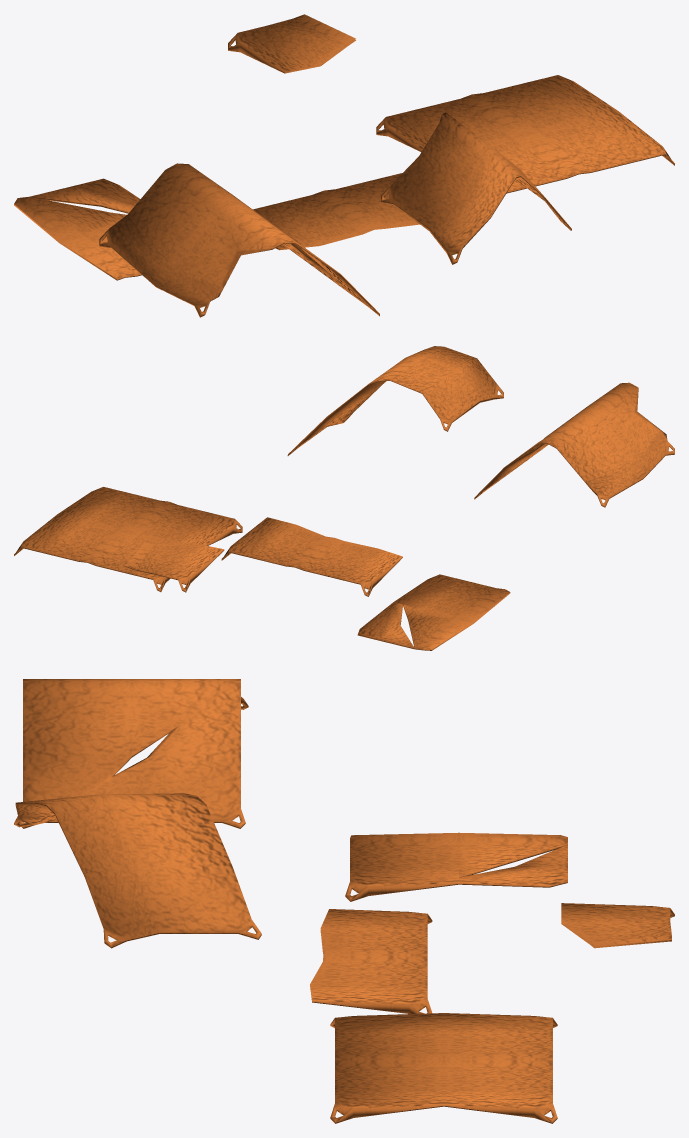
Rendered from DamagedTarps_Orange.obj.
3 views of the same model, one above another, from view 1: azimuth 30°, elevation 25°; view 2: azimuth 150°, elevation 25°; view 3: azimuth 270°, elevation 25° (orthographic). The views are drawn at different scales.
Parts seen in each view (by area): view 1: Plane.012_Material.187, Plane.017_Material.187, Plane.011_Material.187, Plane.015_Material.187, Plane.014_Material.187, Plane.013_Material.187; view 2: Plane.012_Material.187, Plane.017_Material.187, Plane.011_Material.187, Plane.015_Material.187, Plane.014_Material.187, Plane.013_Material.187; view 3: Plane.017_Material.187, Plane.011_Material.187, Plane.012_Material.187, Plane.015_Material.187, Plane.014_Material.187, Plane.013_Material.187.
Part boxes in pixels (box(x1,y1,x2,y2)): Plane.012_Material.187: box(376, 75, 674, 193); Plane.017_Material.187: box(99, 163, 379, 317); Plane.011_Material.187: box(381, 112, 571, 264); Plane.015_Material.187: box(14, 178, 141, 280); Plane.014_Material.187: box(253, 173, 419, 250); Plane.013_Material.187: box(228, 14, 355, 73); Plane.012_Material.187: box(14, 487, 242, 591); Plane.017_Material.187: box(474, 382, 674, 507); Plane.011_Material.187: box(287, 346, 503, 455); Plane.015_Material.187: box(357, 574, 510, 650); Plane.014_Material.187: box(221, 517, 402, 596); Plane.013_Material.187: box(126, 542, 224, 592); Plane.017_Material.187: box(19, 679, 248, 828); Plane.011_Material.187: box(14, 793, 261, 948); Plane.012_Material.187: box(330, 1013, 557, 1123); Plane.015_Material.187: box(345, 832, 567, 901); Plane.014_Material.187: box(310, 909, 432, 1013); Plane.013_Material.187: box(561, 903, 674, 948).
Size of the model in its own units: 6.69 by 1.81 by 6.06.
